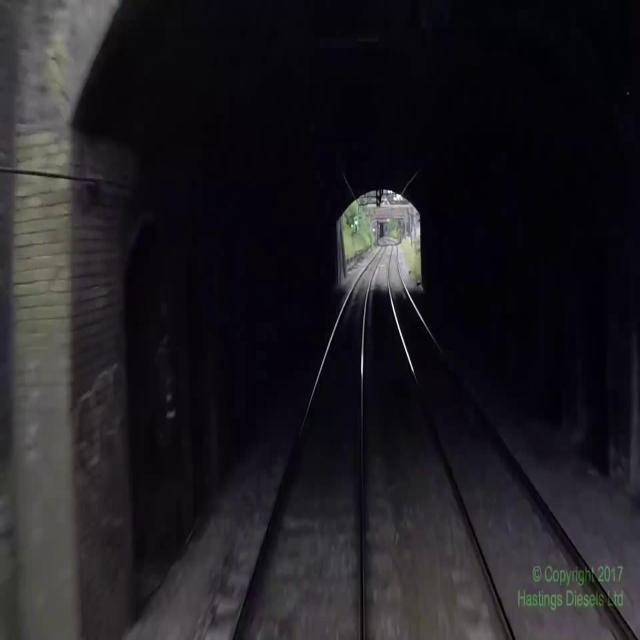rail-track: (388, 239, 633, 639), (236, 239, 385, 639)
